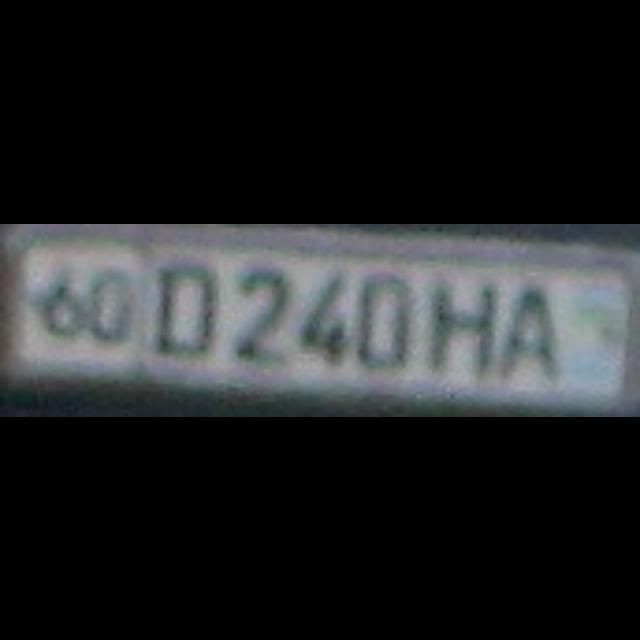0: (357, 268, 405, 360), (86, 264, 126, 334)
2: (231, 264, 283, 356)
4: (298, 271, 342, 357)
6: (37, 260, 74, 328)
A: (499, 286, 555, 372)
D: (148, 256, 212, 350)
H: (424, 276, 488, 368)
